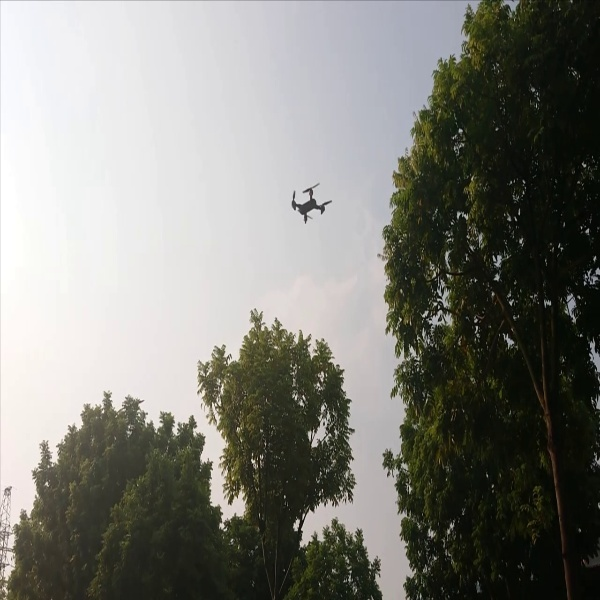drone: (284, 176, 338, 226)
